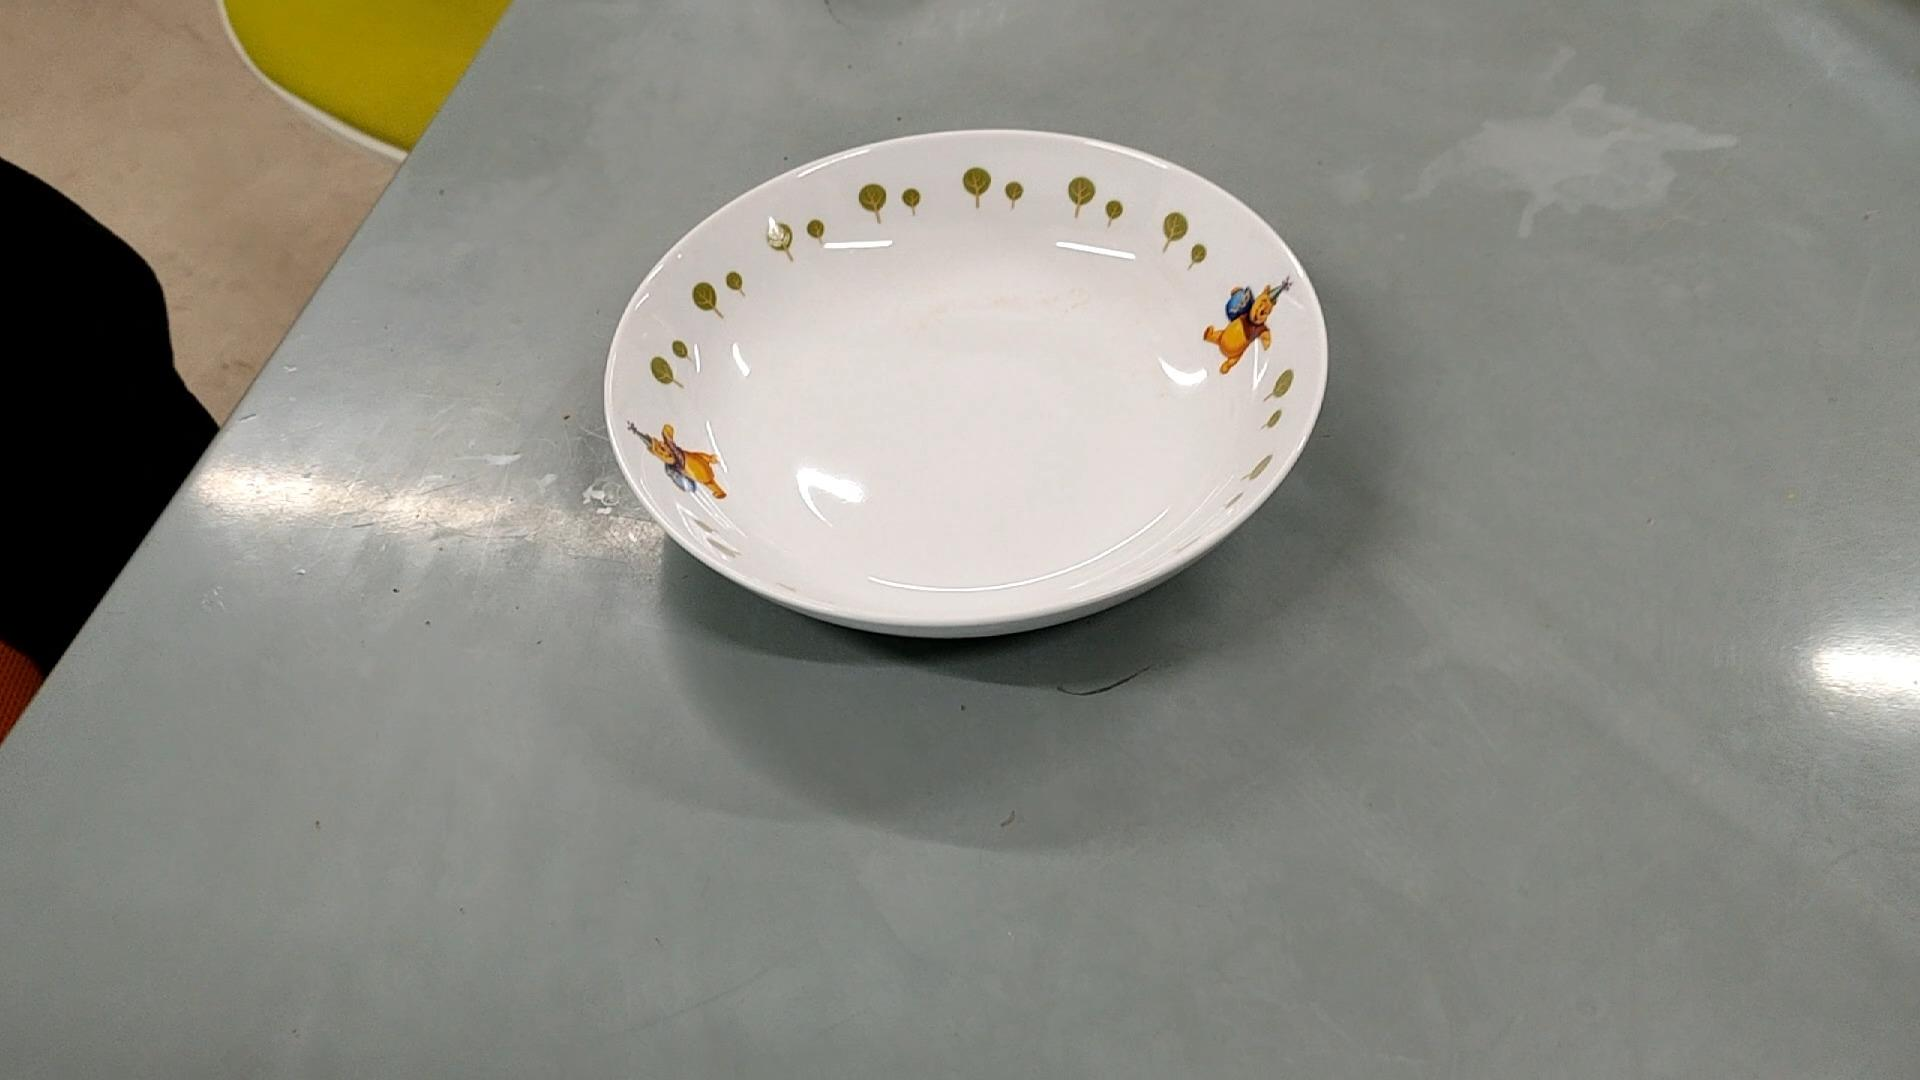plate: (616, 128, 1331, 638)
